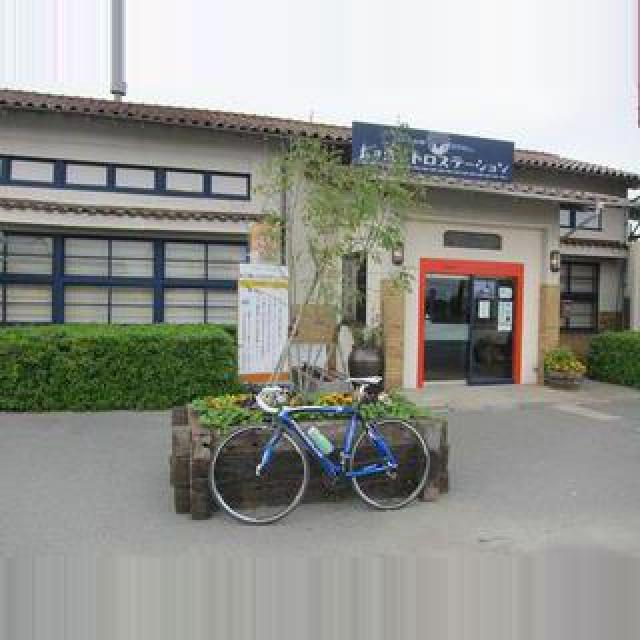Person: (205, 372, 435, 524)
